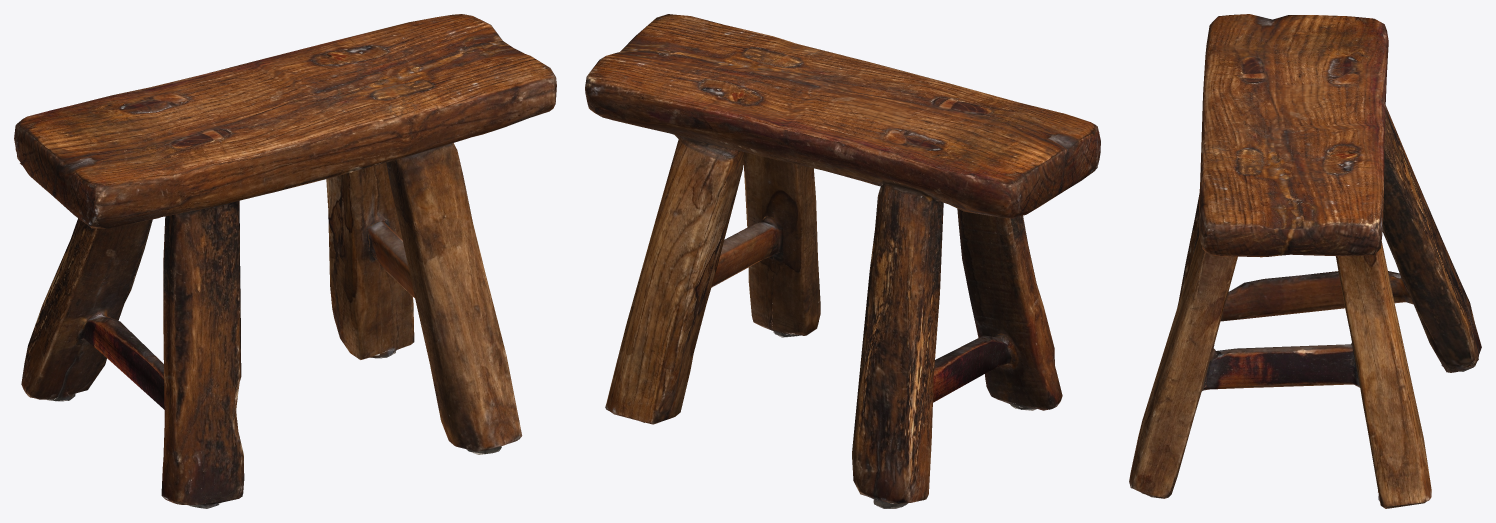
Rendered from wooden_stool_02.glb.
3 views of the same model, side by side, from view 1: azimuth 30°, elevation 25°; view 2: azimuth 150°, elevation 25°; view 3: azimuth 270°, elevation 25° (orthographic). The views are drawn at different scales.
Visible parts, largest first — view 1: wooden_stool_02; view 2: wooden_stool_02; view 3: wooden_stool_02.
Part boxes in pixels (left/top/right/bottom): wooden_stool_02: left=14, top=14, right=556, bottom=508; wooden_stool_02: left=585, top=14, right=1100, bottom=508; wooden_stool_02: left=1129, top=14, right=1481, bottom=508.
Size of the model in its own units: 0.2651 by 0.1821 by 0.1836.
Materials: 1 (1 with a texture image).
